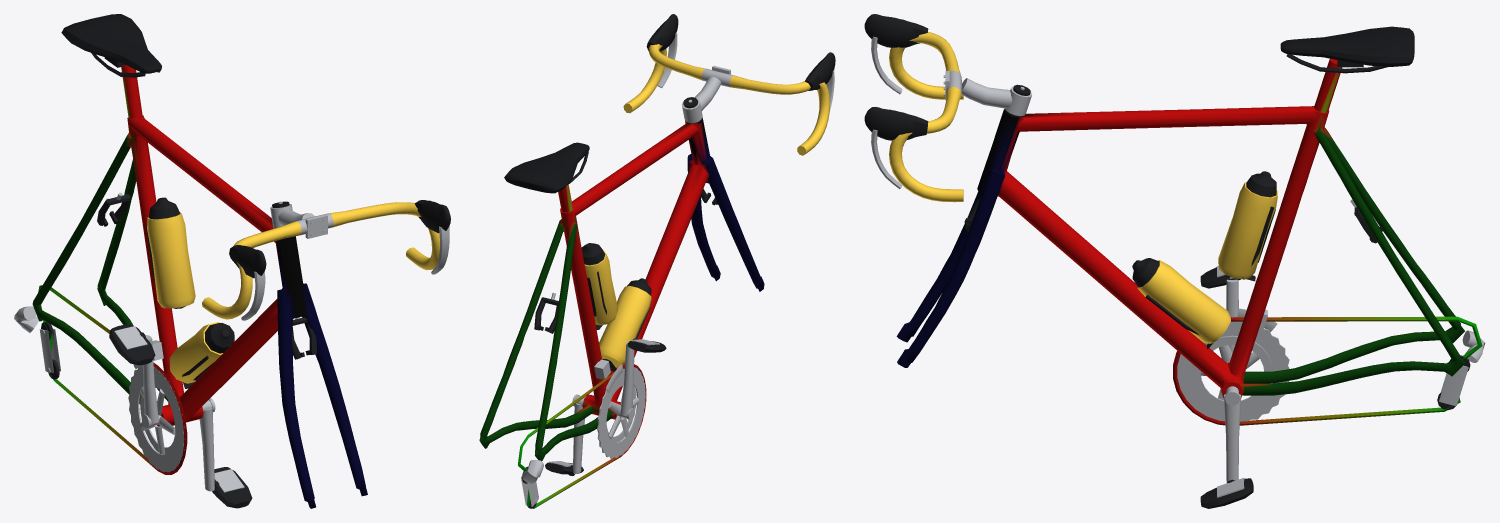
File: retro.glb
3 views of the same model, side by side, from view 1: azimuth 30°, elevation 25°; view 2: azimuth 150°, elevation 25°; view 3: azimuth 270°, elevation 25° (orthographic). The views are drawn at different scales.
Visible parts, largest first — view 1: frame, cockpit, opt_bottles, crankset, saddle, opt_derailleur, pedal_R, pedal_L, opt_brakes_rim; view 2: frame, cockpit, opt_bottles, crankset, saddle, opt_derailleur, opt_brakes_rim, pedal_R; view 3: frame, cockpit, opt_bottles, crankset, saddle, opt_derailleur, pedal_L.
Boxes of the visible parts, bbox=[...] form: frame: bbox=[32, 65, 367, 508]; cockpit: bbox=[202, 200, 450, 320]; opt_bottles: bbox=[146, 197, 234, 388]; crankset: bbox=[128, 335, 215, 491]; saddle: bbox=[61, 14, 161, 77]; opt_derailleur: bbox=[14, 306, 163, 379]; pedal_R: bbox=[109, 324, 155, 365]; pedal_L: bbox=[212, 467, 252, 508]; opt_brakes_rim: bbox=[97, 192, 316, 359]; frame: bbox=[479, 117, 764, 508]; cockpit: bbox=[623, 14, 835, 155]; opt_bottles: bbox=[581, 243, 651, 371]; crankset: bbox=[572, 341, 646, 473]; saddle: bbox=[504, 142, 589, 193]; opt_derailleur: bbox=[521, 359, 622, 508]; opt_brakes_rim: bbox=[534, 181, 718, 333]; pedal_R: bbox=[627, 338, 666, 352]; frame: bbox=[896, 58, 1482, 425]; cockpit: bbox=[864, 14, 1032, 202]; opt_bottles: bbox=[1132, 171, 1277, 349]; crankset: bbox=[1177, 279, 1289, 482]; saddle: bbox=[1280, 26, 1414, 73]; opt_derailleur: bbox=[1237, 308, 1485, 410]; pedal_L: bbox=[1200, 478, 1253, 508].
Bounding box in the file's own units: 0.4648 × 0.8869 × 1.13.
